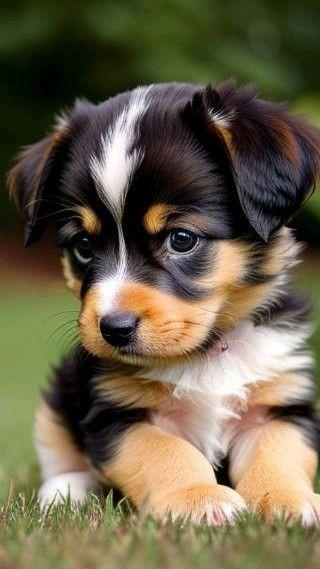puppy-dog: (8, 79, 320, 532)
